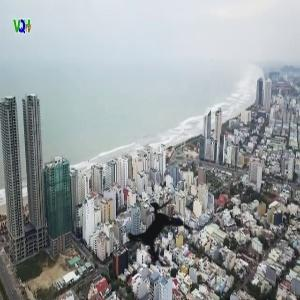drone: (97, 168, 221, 292)
